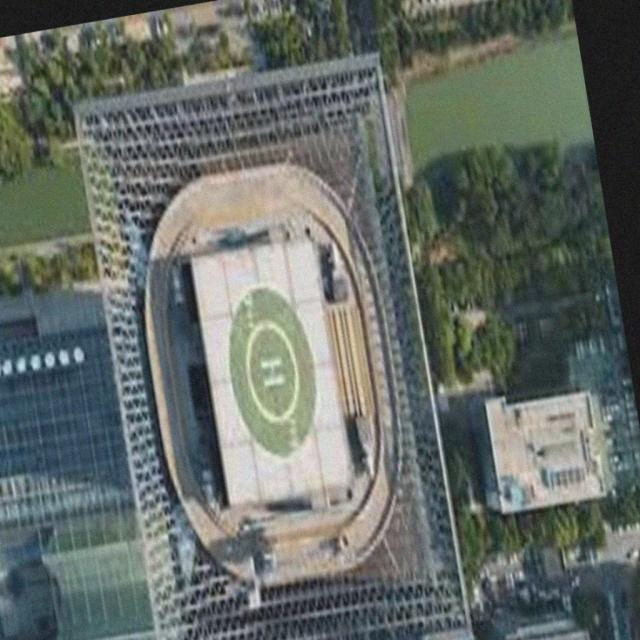helipad: (243, 320, 303, 426)
